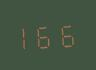one: (18, 21, 36, 50)
six: (38, 20, 56, 49), (57, 19, 75, 48)
